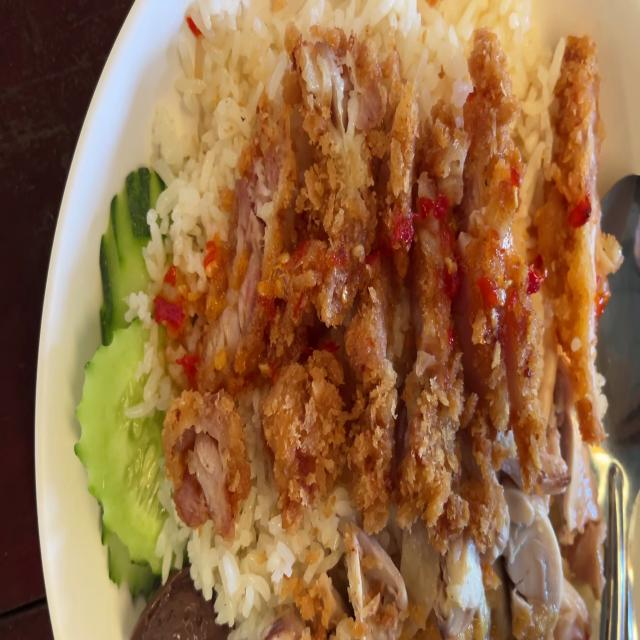boiled_chicken: (271, 503, 609, 640)
boiled_chicken_blood_jelly: (137, 574, 220, 640)
chicken_rice: (94, 4, 614, 640)
cucumber: (84, 171, 182, 580)
fried_chicken: (166, 36, 591, 457)
